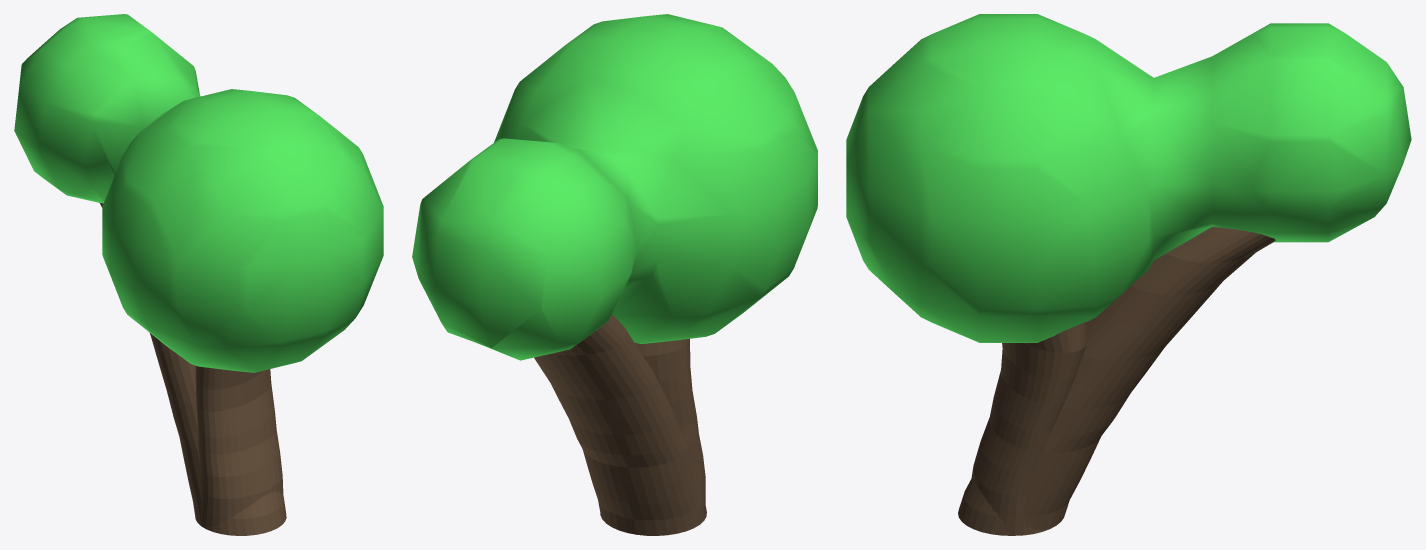
The model's file is Tree.fbx.
3 views of the same model, side by side, from view 1: azimuth 30°, elevation 25°; view 2: azimuth 150°, elevation 25°; view 3: azimuth 270°, elevation 25° (orthographic). The views are drawn at different scales.
Parts seen in each view (by area): view 1: Mball.002, Circle.001, Circle; view 2: Mball.002, Circle, Circle.001; view 3: Mball.002, Circle, Circle.001.
Boxes of the visible parts, bbox=[...] form: Mball.002: bbox=[14, 14, 383, 372]; Circle.001: bbox=[195, 366, 283, 526]; Circle: bbox=[99, 202, 286, 535]; Mball.002: bbox=[412, 14, 817, 360]; Circle: bbox=[534, 314, 706, 535]; Circle.001: bbox=[600, 339, 705, 525]; Mball.002: bbox=[846, 14, 1411, 342]; Circle: bbox=[958, 226, 1275, 535]; Circle.001: bbox=[971, 321, 1087, 535].
Size of the model in its own units: 606 by 994 by 1055.
